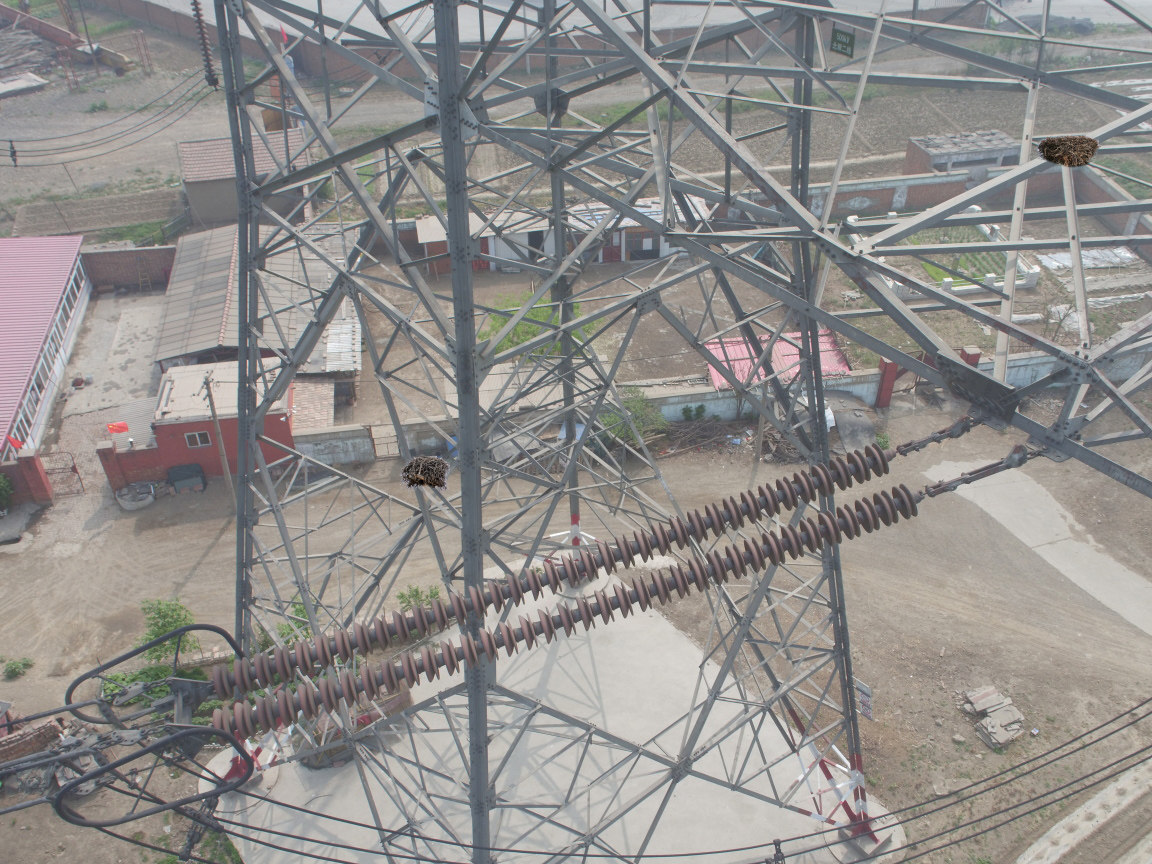nest: (1035, 132, 1102, 170), (396, 457, 452, 493)
